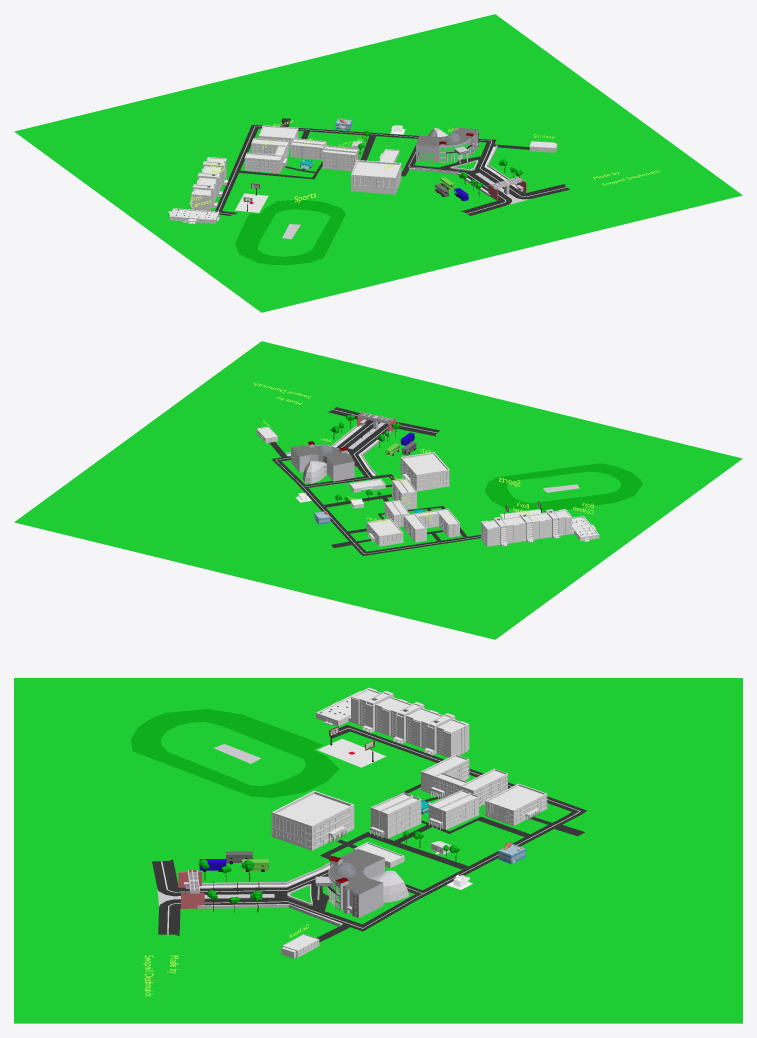
3 views of the same model, one above another, from view 1: azimuth 30°, elevation 25°; view 2: azimuth 150°, elevation 25°; view 3: azimuth 270°, elevation 25° (orthographic). The views are drawn at different scales.
Parts seen in each view (by area): view 1: Ground, Road, Admin sggs, Entc, Object_5.003, Textile.003, Textile, Object_10.007, Production, cixil, Textile.001; view 2: Ground, Road, Admin sggs, Object_5.003, Entc, Object_6.002, Production, Textile.001; view 3: Ground, Road, Admin sggs, Object_5.003, Entc, Production, Object_6.002, Textile.002, Textile.004, Textile.003, Basketball, Textile.001 (+6 smaller).
Part boxes in pixels (x1,y1,x2,y2): Ground: [14, 14, 742, 312]; Road: [215, 118, 569, 215]; Admin sggs: [416, 127, 478, 162]; Entc: [351, 160, 401, 194]; Object_5.003: [189, 157, 228, 210]; Textile.003: [244, 152, 282, 173]; Textile: [322, 148, 356, 171]; Object_10.007: [169, 208, 219, 223]; Production: [258, 125, 298, 148]; cixil: [290, 141, 324, 160]; Textile.001: [251, 138, 288, 158]; Ground: [14, 341, 742, 639]; Road: [269, 407, 480, 555]; Admin sggs: [291, 441, 354, 483]; Object_5.003: [481, 509, 571, 546]; Entc: [400, 452, 449, 491]; Object_6.002: [503, 509, 569, 542]; Production: [366, 518, 403, 546]; Textile.001: [403, 513, 426, 542]; Ground: [14, 678, 742, 1023]; Road: [152, 725, 587, 942]; Admin sggs: [315, 849, 408, 917]; Object_5.003: [351, 687, 469, 757]; Entc: [271, 790, 354, 850]; Production: [485, 783, 547, 825]; Object_6.002: [351, 689, 440, 751]; Textile.002: [379, 795, 421, 838]; Textile.004: [437, 793, 479, 829]; Textile.003: [421, 754, 469, 794]; Basketball: [317, 738, 386, 767]; Textile.001: [460, 768, 507, 806].
Size of what is drawn, in the model's own units: 32.33 by 2.27 by 28.82.
